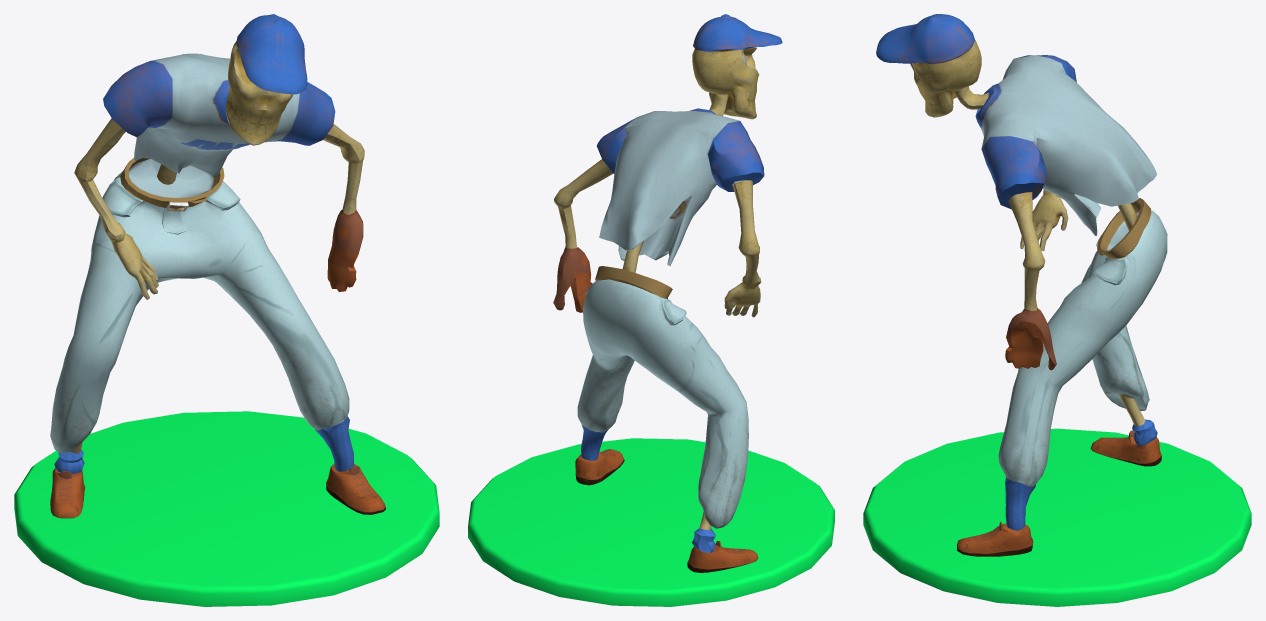
3 views of the same model, side by side, from view 1: azimuth 30°, elevation 25°; view 2: azimuth 150°, elevation 25°; view 3: azimuth 270°, elevation 25° (orthographic). The views are drawn at different scales.
Visible parts, largest first — view 1: Body_low, pCylinder1; view 2: Body_low, pCylinder1; view 3: Body_low, pCylinder1.
Boxes of the visible parts, x1=… form: Body_low: x1=50, y1=14, x2=385, y2=518; pCylinder1: x1=14, y1=411, x2=439, y2=606; Body_low: x1=553, y1=14, x2=782, y2=572; pCylinder1: x1=468, y1=438, x2=834, y2=606; Body_low: x1=876, y1=14, x2=1167, y2=556; pCylinder1: x1=863, y1=428, x2=1251, y2=606.
Bounding box in the file's own units: 105 × 150 × 105.
Materials: 2 (1 with a texture image).
